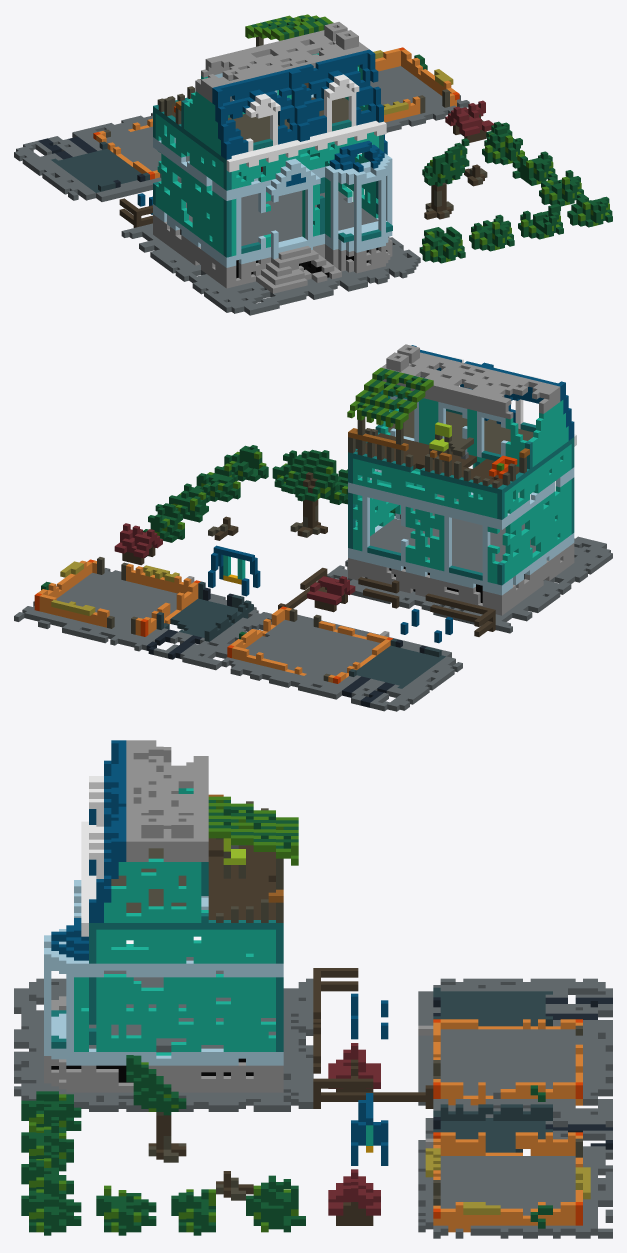
Rendered from building_small_5_destroyed.obj.
3 renders of one model, top to bottom at view 1: azimuth 30°, elevation 25°; view 2: azimuth 150°, elevation 25°; view 3: azimuth 270°, elevation 25°, orthographic. The views are drawn at different scales.
Size of the model in its own units: 8 by 4 by 8.
Materials: 1 (1 with a texture image).
